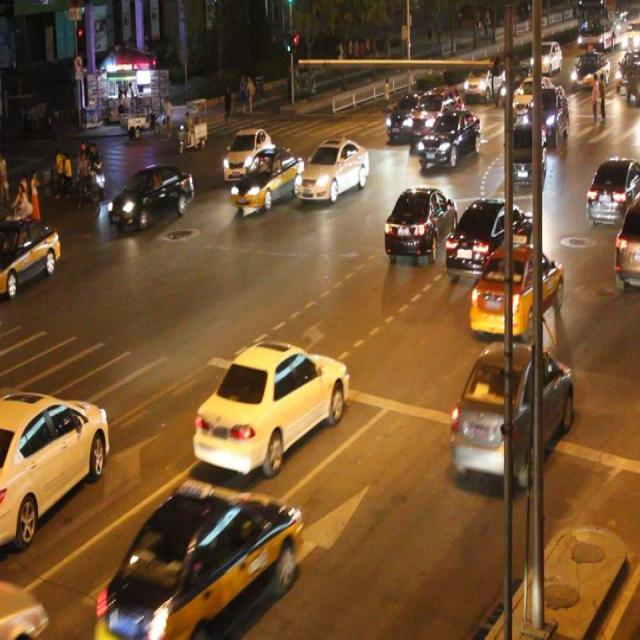car: (97, 482, 300, 640), (194, 340, 348, 474), (450, 338, 572, 482), (1, 388, 110, 544), (468, 241, 562, 335), (443, 197, 532, 275), (108, 162, 194, 230), (382, 183, 457, 260), (295, 135, 369, 202), (0, 215, 60, 292), (230, 146, 303, 208), (583, 156, 640, 223), (417, 108, 481, 166), (406, 84, 463, 148), (222, 127, 272, 182), (612, 196, 640, 289), (384, 92, 433, 142), (508, 122, 544, 180)
